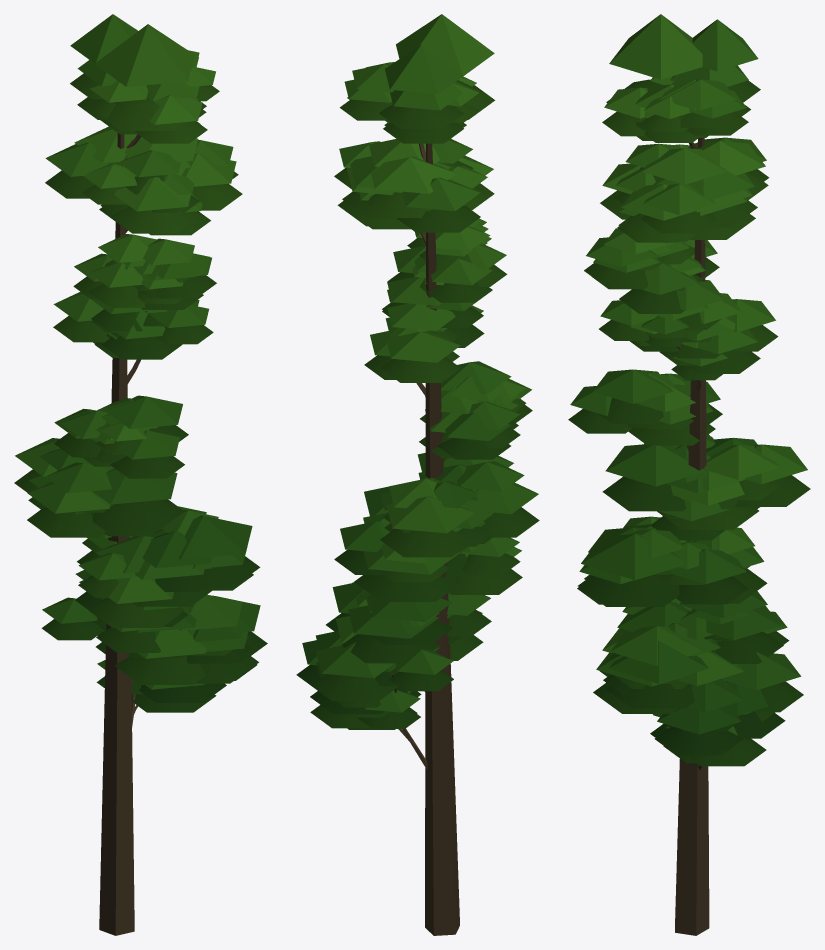
File: tree_poplar_2_mid.glb
3 views of the same model, side by side, from view 1: azimuth 30°, elevation 25°; view 2: azimuth 150°, elevation 25°; view 3: azimuth 270°, elevation 25° (orthographic). The views are drawn at different scales.
Parts seen in each view (by area): view 1: leaf, wood; view 2: leaf, wood; view 3: leaf, wood.
Part boxes in pixels (bbox=[...]): leaf: bbox=[14, 14, 267, 712]; wood: bbox=[99, 133, 140, 935]; leaf: bbox=[296, 14, 539, 729]; wood: bbox=[391, 143, 459, 935]; leaf: bbox=[568, 14, 810, 766]; wood: bbox=[675, 138, 709, 935].
Size of the model in its own units: 3.53 by 13.92 by 3.32.
